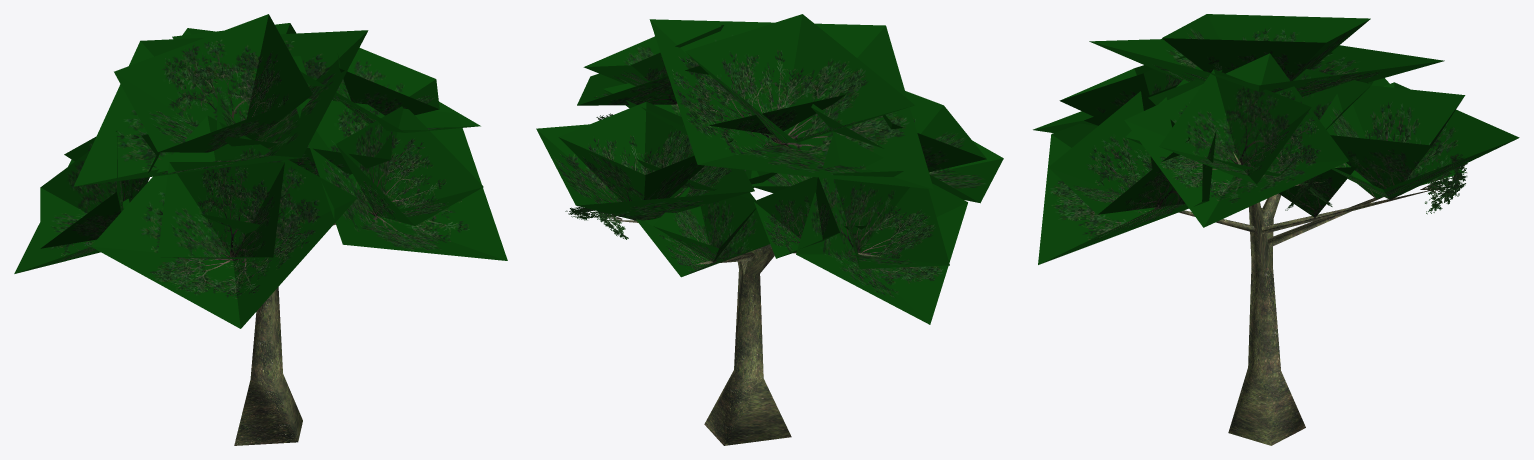
The model's file is decd_treecanopy_a3_l3.fbx.
The picture shows the model from 3 angles, left to right: view 1: azimuth 30°, elevation 25°; view 2: azimuth 150°, elevation 25°; view 3: azimuth 270°, elevation 25°; orthographic projection. The views are drawn at different scales.
Visible parts, largest first — view 1: mesh_node; view 2: mesh_node; view 3: mesh_node.
Part boxes in pixels (left/top/right/bottom): mesh_node: left=14, top=14, right=507, bottom=445; mesh_node: left=536, top=14, right=1003, bottom=445; mesh_node: left=1033, top=14, right=1519, bottom=445.
Size of the model in its own units: 30.36 by 28.13 by 31.14.
